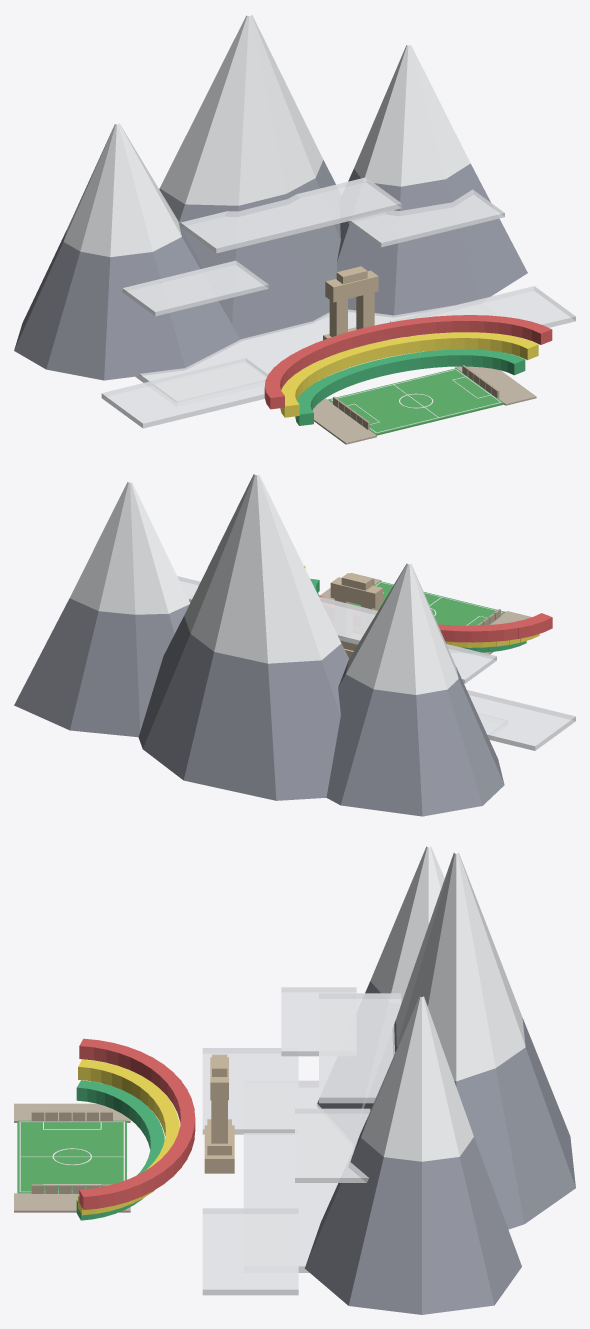
File: SM_Stage_HernandoSiles_BO.glb
3 renders of one model, top to bottom at view 1: azimuth 30°, elevation 25°; view 2: azimuth 150°, elevation 25°; view 3: azimuth 270°, elevation 25°, orthographic. The views are drawn at different scales.
Parts seen in each view (by area): view 1: SM_Stage_HernandoSiles_BO; view 2: SM_Stage_HernandoSiles_BO; view 3: SM_Stage_HernandoSiles_BO.
Boxes of the visible parts, left/top/right/bottom form: SM_Stage_HernandoSiles_BO: left=14, top=15, right=575, bottom=444; SM_Stage_HernandoSiles_BO: left=14, top=474, right=575, bottom=816; SM_Stage_HernandoSiles_BO: left=14, top=846, right=575, bottom=1314.
Bounding box in the file's own units: 93.38 × 52.75 × 81.98.
